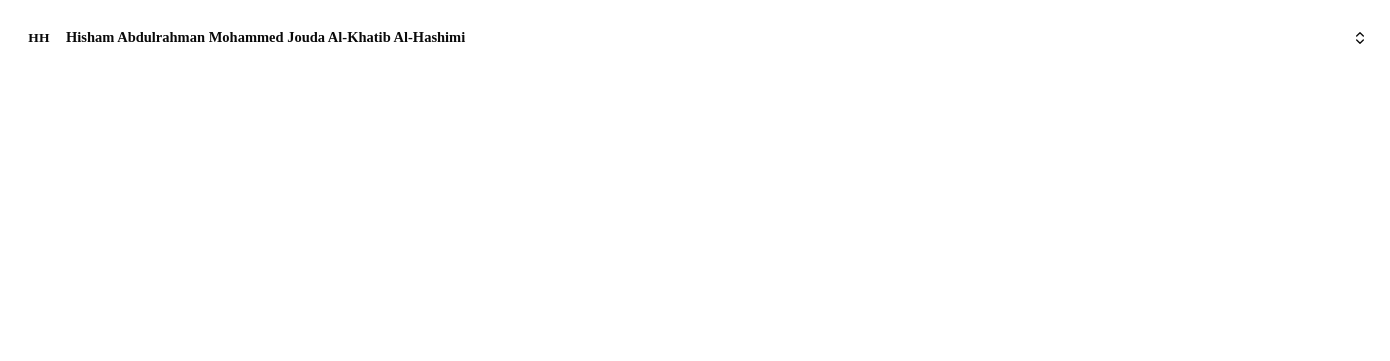
profile menu › keeps a long name whole for assistive technology, and shows it in full in the menu
The image size is (1390, 361).
Click the button "HH Hisham Abdulrahman Mohammed Jouda Al-Khatib Al-Hashimi". click: (266, 37)
box: x1=12 y1=12 x2=1378 y2=64
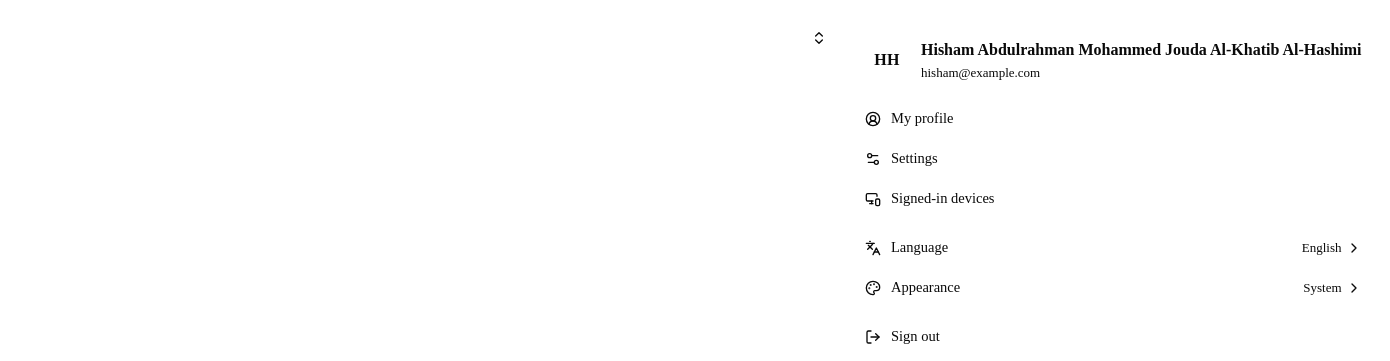
Expected: the 2nd text "Hisham Abdulrahman Mohammed Jouda Al-Khatib Al-Hashimi" is shown, x1=921 y1=38 x2=1362 y2=62
